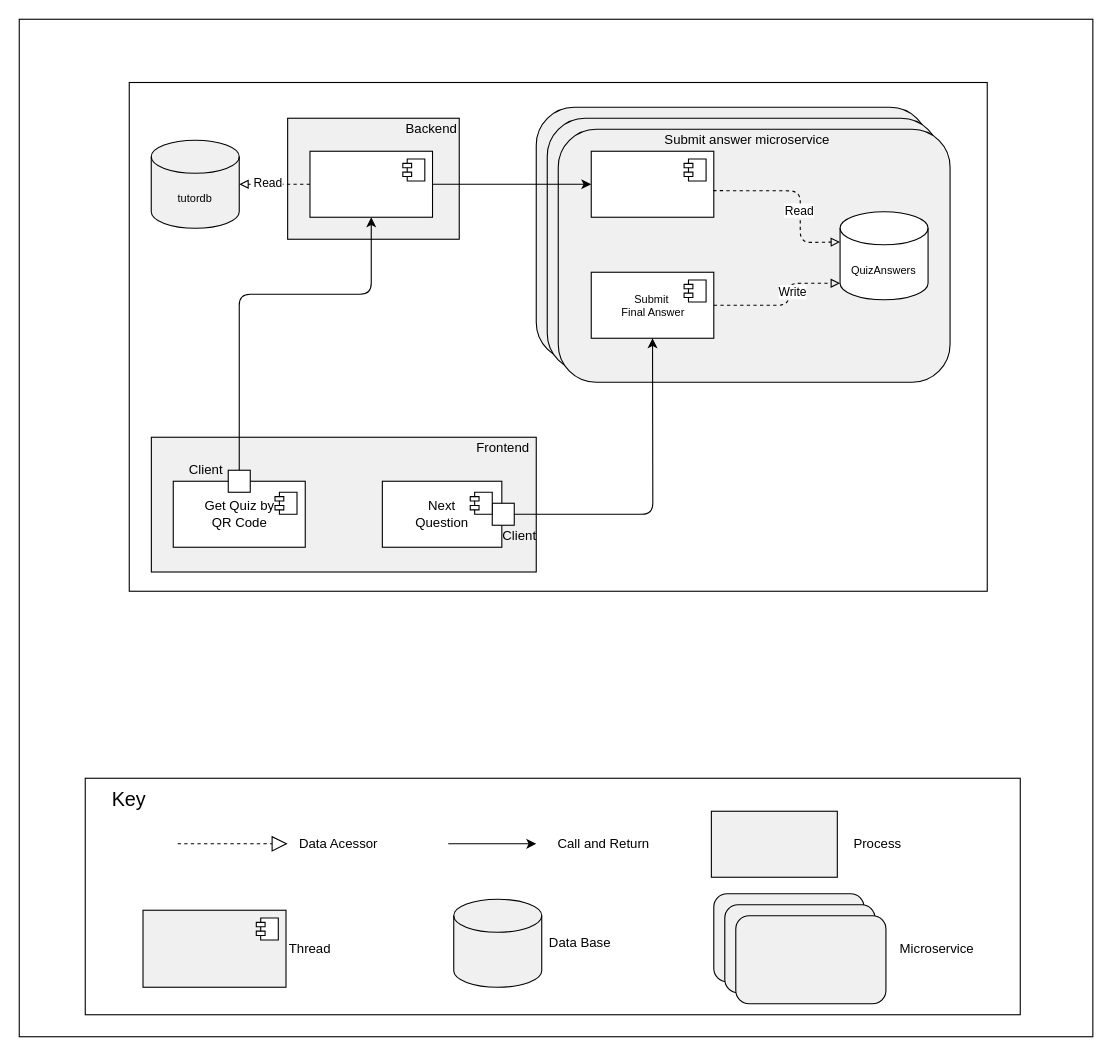
The diagram is 1112 pixels wide and 1056 high, and some of its shapes have lost their labels. Each missing label, with the centre of its shape:
Find Final Answers: pixel 652 183
Start Quiz: pixel 371 183
